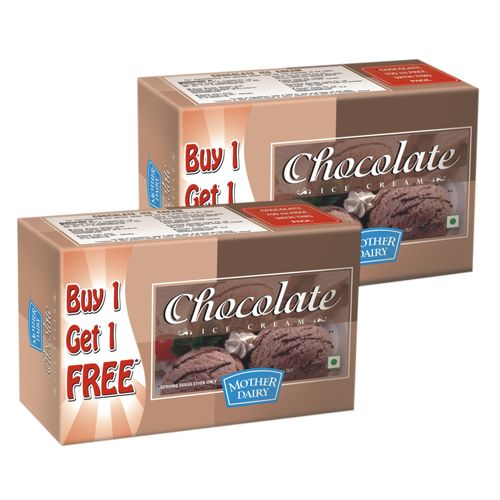Mother_Dairy: (216, 366, 288, 408), (352, 223, 407, 266)
